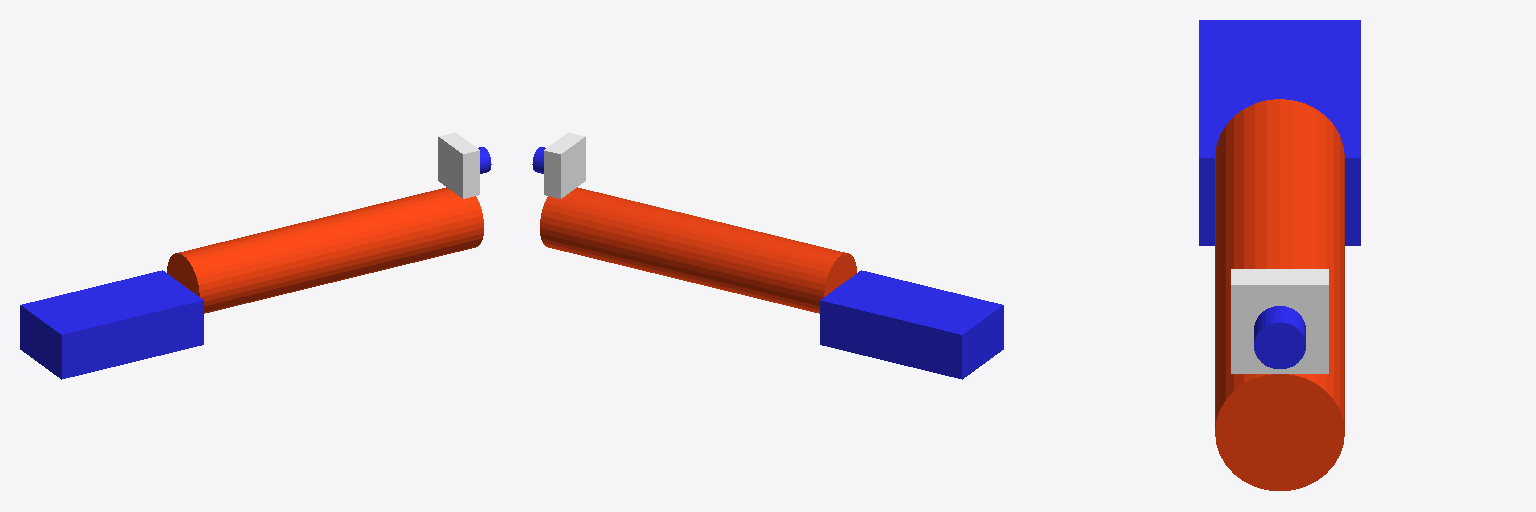
The robot description file, URDF, robot "robot":
<?xml version="1.0"?>
<robot name="robot">

    <!-- Define materials directly -->
    <material name="white">
        <color rgba="1 1 1 1"/>
    </material>
    <material name="orange">
        <color rgba="1 0.3 0.1 1"/>
    </material>
    <material name="blue">
        <color rgba="0.2 0.2 1 1"/>
    </material>

    <!-- This first link called "world" is empty -->
    <link name="world"></link>


    <!-- slider_joint lets slider_link move back and forth along the top of the base in one dimension. -->
    <joint name="slider_joint" type="revolute">
        <origin xyz="0 0 0" rpy="0 0 0"/>
        <parent link="world"/>
        <child link="slider_link"/>
        <axis xyz="0 0 1"/>
        <limit lower="-1.5708" upper="1.5708" velocity="100" effort="100"/>  
    </joint>

    <!-- slider_link is the box skimming across the top of the base -->
    <link name="slider_link">
        <visual>
            <origin xyz="0 0 0.075" rpy="0 0 0"/>
            <geometry>
                <box size="0.5 0.25 0.15" />
            </geometry>
            <material name="blue" />
        </visual>
        <collision>
            <origin xyz="0 0 0.075" rpy="0 0 0"/>
            <geometry>
                <box size="0.5 0.25 0.15" />
            </geometry>
        </collision>
        <inertial>
            <origin xyz="0 0 0.075" rpy="0 0 0"/>
            <mass value="0.5" />
            <inertia ixx="0.0013" ixy="0.0" ixz="0.0" iyy="0.0027" iyz="0.0" izz="0.0004" />
        </inertial>
    </link>

    <!-- arm_joint describes the rotation of the arm -->
    <joint name="arm_joint" type="revolute">
        <origin xyz="0.25 0 0.15" rpy="0 0 0"/>
        <parent link="slider_link"/>
        <child link="arm_link"/>
        <axis xyz="0 -1 0"/>
        <limit lower="-1.5708" upper="1.5708" velocity="100" effort="100"/> 
    </joint>

    <!-- arm_link describes the arm -->
    <link name="arm_link">
        <visual>
            <origin xyz="0.5 0 0" rpy="0 1.5708 0"/>
            <geometry>                
                <cylinder length="1.0" radius="0.1" />
            </geometry>
            <material name="orange" />
        </visual>
        <collision>
            <origin xyz="0.5 0 0" rpy="0 1.5708 0"/>
            <geometry>
                <cylinder length="1.0" radius="0.1" />
            </geometry>
        </collision>
        <inertial>
            <origin xyz="0.5 0 0" rpy="0 1.5708 0"/>
            <mass value="1.0" />
            <inertia ixx="0.0083" ixy="0.0" ixz="0.0" iyy="0.0083" iyz="0.0" izz="0.01" />
        </inertial>
    </link>

    <!-- camera_joint describes where the camera is relative to the arm -->
    <joint name="camera_joint" type="fixed">
        <origin xyz="1.0 0 0.175" rpy="0 0 0"/>
        <parent link="arm_link"/>
        <child link="camera_link"/>        
    </joint>

    <!-- camera_link describes the camera at the end of the arm -->
    <link name="camera_link">
        <visual>
            <origin xyz="-0.03 0 0" rpy="0 0 0"/>
            <geometry>
                <box size="0.06 0.15 0.15" />
            </geometry>
            <material name="white" />
        </visual>
        <visual>
            <origin xyz="0.03 0 0" rpy="0 1.5708 0"/>
            <geometry>
                <cylinder length="0.06" radius="0.04" />
            </geometry>
            <material name="blue" />
        </visual>
        <collision>
            <origin xyz="0.0 0 0" rpy="0 0 0"/>
            <geometry>
                <box size="0.12 0.15 0.15" />
            </geometry>
        </collision>
        <inertial>
            <origin xyz="0.0 0 0" rpy="0 0 0"/>
            <mass value="0.1" />
            <inertia ixx="0.0001" ixy="0.0" ixz="0.0" iyy="0.0001" iyz="0.0" izz="0.0001" />
        </inertial>
    </link>

</robot>

--- Render facts (derived) ---
The picture shows the robot from 3 angles, left to right: view 1: azimuth 30°, elevation 25°; view 2: azimuth 150°, elevation 25°; view 3: azimuth 270°, elevation 25°; orthographic projection.
Model robot with 4 links and 3 joints (2 revolute, 1 fixed), rooted at world, posed every joint at zero.
Links seen in each view (by area): view 1: arm_link, slider_link, camera_link; view 2: arm_link, slider_link, camera_link; view 3: arm_link, slider_link, camera_link.
Link boxes in pixels (x1,y1,x2,y2): arm_link: [167, 187, 483, 313]; slider_link: [20, 270, 203, 379]; camera_link: [438, 132, 491, 198]; arm_link: [540, 187, 856, 313]; slider_link: [820, 270, 1003, 379]; camera_link: [532, 132, 585, 198]; arm_link: [1215, 99, 1344, 490]; slider_link: [1199, 20, 1360, 245]; camera_link: [1231, 269, 1328, 373].
Bounding box of the posed robot: 1.56 × 0.25 × 0.4 m (x, y, z).
Geometry: primitives only (box / cylinder / sphere), no mesh files.